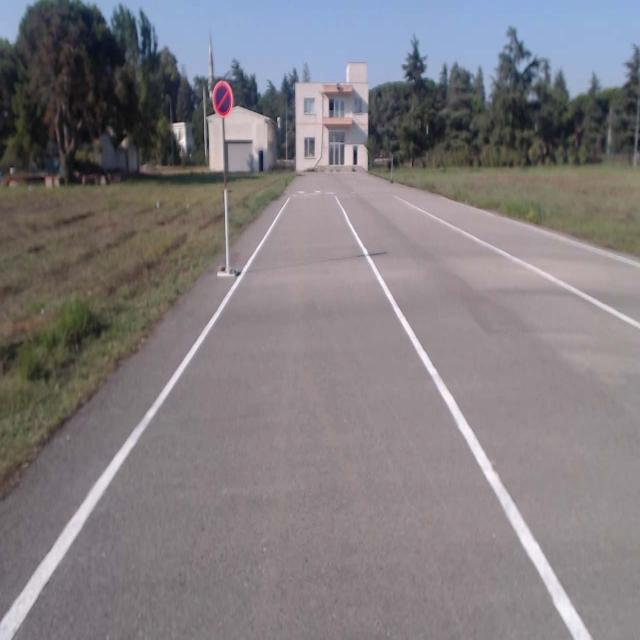parkyasak: (213, 81, 231, 119)
